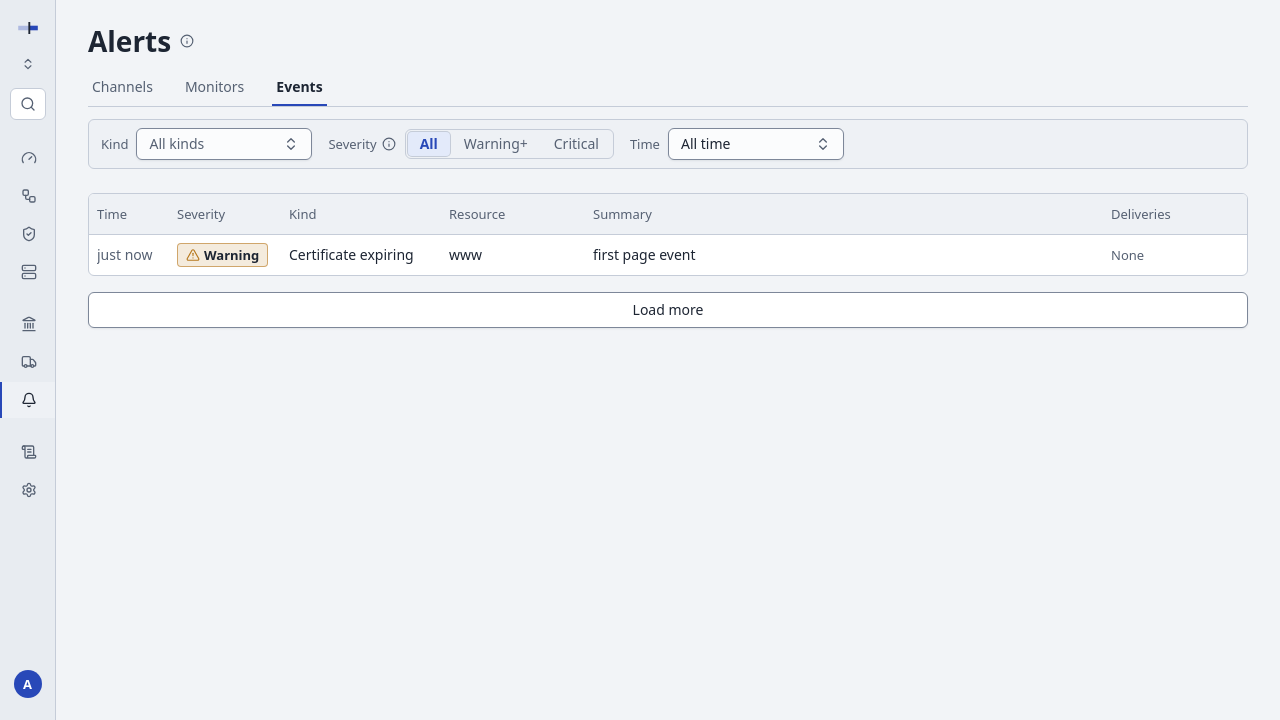
Test: load more follows cursor
Expected: the text "first page event" is shown, [593,244,696,264]
Click the button "Load more": (668, 310) [88,292,1248,328]
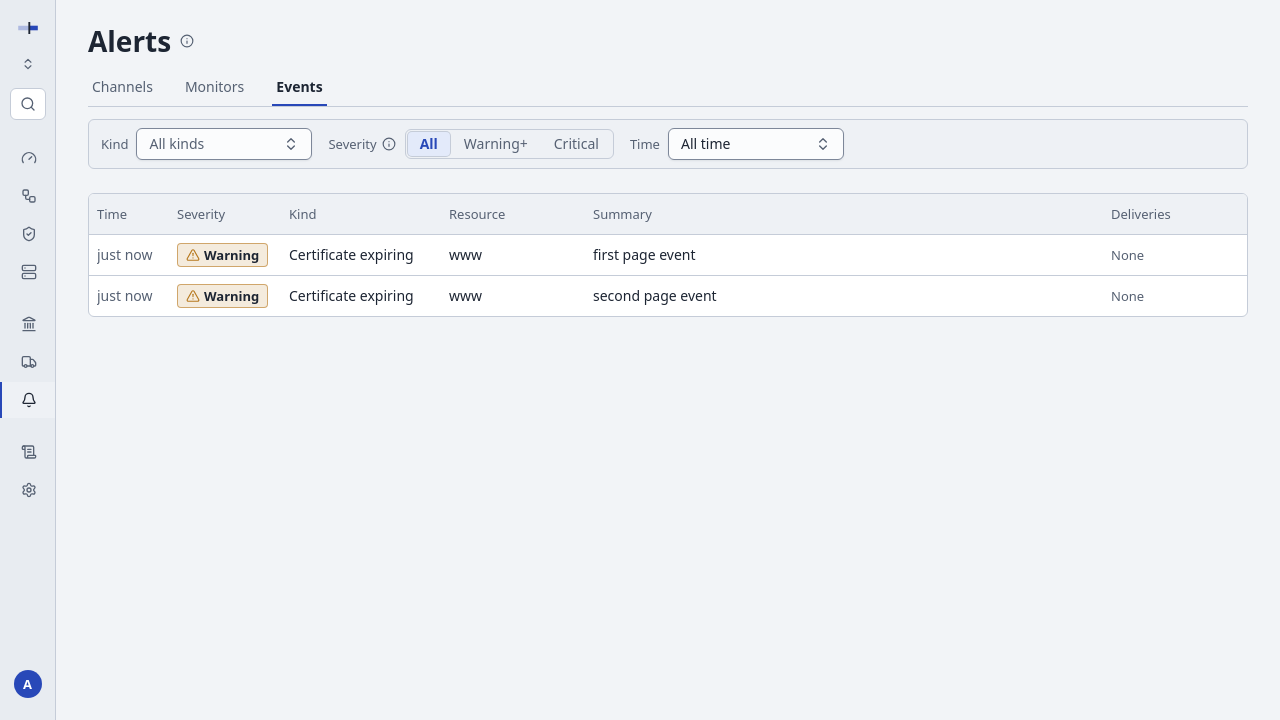
Result: the text "second page event" is shown at [593,286,717,304]
Result: the button "Load more" is gone
